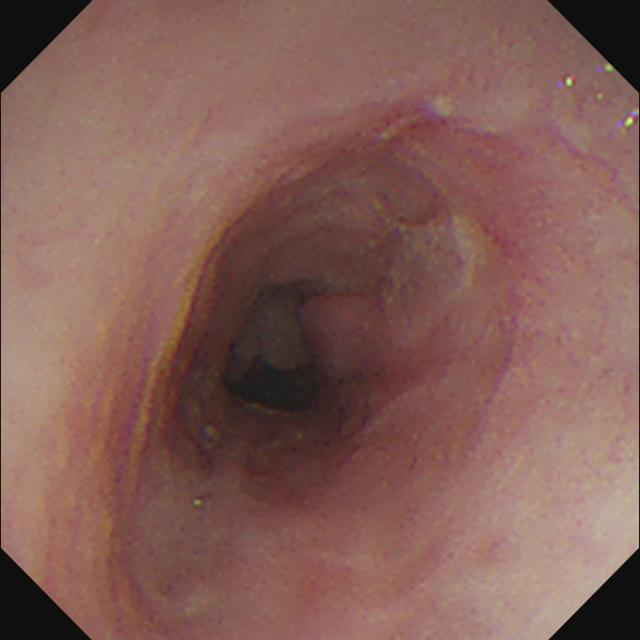A: (299, 292, 393, 376)
E: (222, 353, 322, 412)
